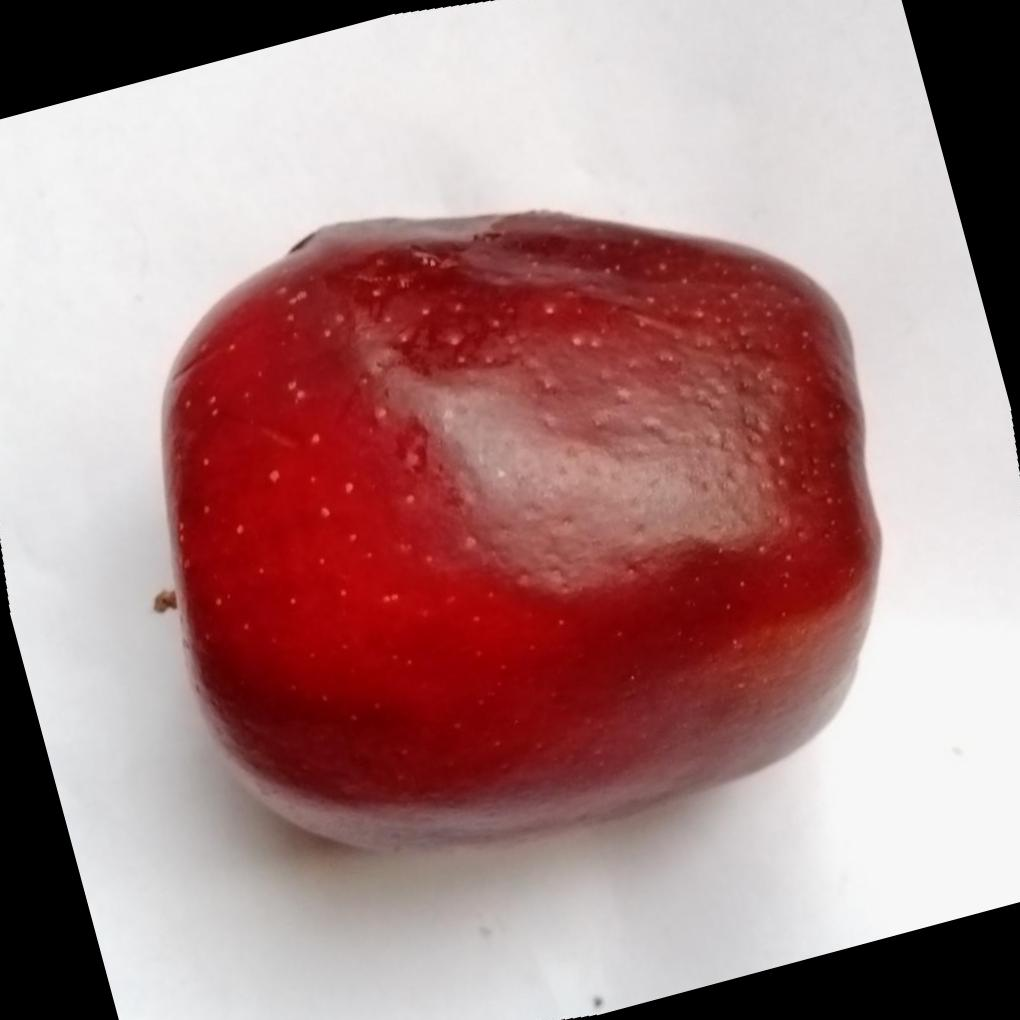FreshOrange: (160, 209, 885, 859)
